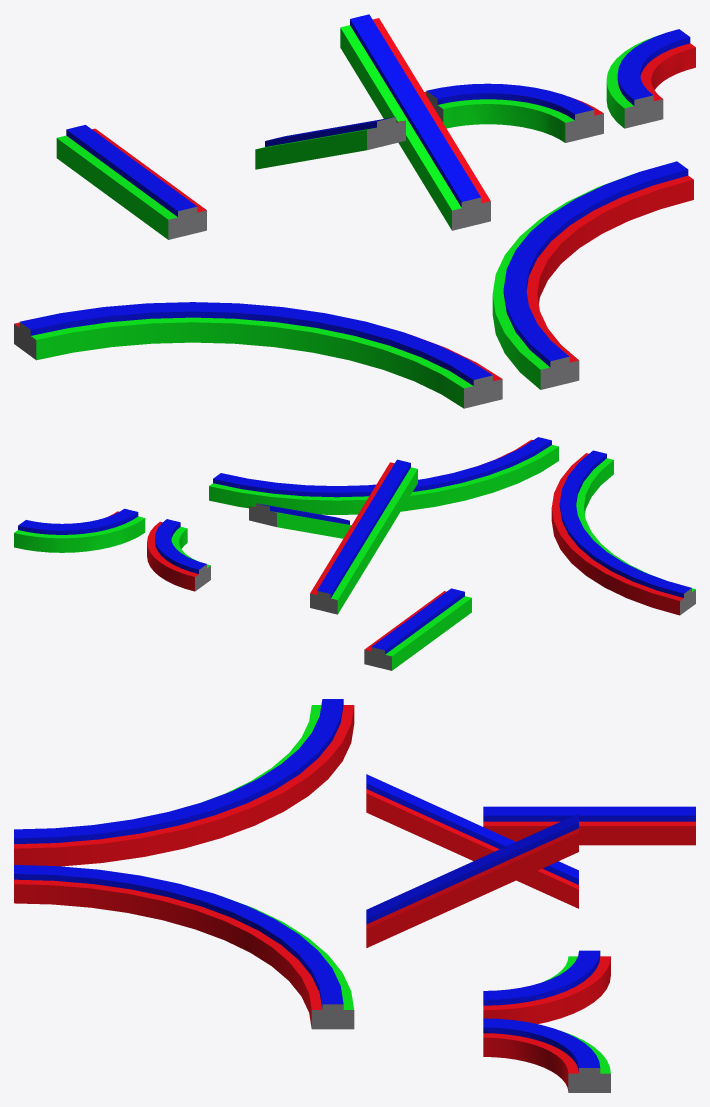
Rendered from cables.fbx.
3 views of the same model, one above another, from view 1: azimuth 30°, elevation 25°; view 2: azimuth 150°, elevation 25°; view 3: azimuth 270°, elevation 25° (orthographic). The views are drawn at different scales.
Visible parts, largest first — view 1: cable-wide-corner-left, cable-wide-corner-right, cable-slope-up, cable-straight, cable-corner-left, cable-corner-right, cable-slope-down; view 2: cable-wide-corner-right, cable-wide-corner-left, cable-slope-down, cable-straight, cable-corner-right, cable-corner-left, cable-slope-up; view 3: cable-wide-corner-right, cable-wide-corner-left, cable-slope-up, cable-straight, cable-slope-down, cable-corner-right, cable-corner-left.
Part boxes in pixels (x1=…): cable-wide-corner-left: x1=14, y1=302, x2=502, y2=408; cable-wide-corner-right: x1=492, y1=161, x2=693, y2=389; cable-slope-up: x1=340, y1=14, x2=490, y2=230; cable-straight: x1=56, y1=125, x2=206, y2=239; cable-corner-left: x1=424, y1=83, x2=603, y2=142; cable-corner-right: x1=606, y1=29, x2=695, y2=128; cable-slope-down: x1=255, y1=117, x2=405, y2=169; cable-wide-corner-right: x1=209, y1=437, x2=558, y2=514; cable-wide-corner-left: x1=551, y1=450, x2=695, y2=615; cable-slope-down: x1=310, y1=459, x2=417, y2=614; cable-straight: x1=364, y1=588, x2=471, y2=670; cable-corner-right: x1=14, y1=508, x2=145, y2=552; cable-corner-left: x1=147, y1=519, x2=210, y2=591; cable-slope-up: x1=249, y1=503, x2=351, y2=538; cable-wide-corner-right: x1=14, y1=865, x2=354, y2=1029; cable-wide-corner-left: x1=14, y1=699, x2=354, y2=866; cable-slope-up: x1=366, y1=813, x2=578, y2=947; cable-straight: x1=483, y1=806, x2=695, y2=845; cable-slope-down: x1=366, y1=774, x2=578, y2=908; cable-corner-right: x1=483, y1=1018, x2=610, y2=1092; cable-corner-left: x1=483, y1=950, x2=610, y2=1023.
Size of the model in its own units: 410 by 63 by 321.
